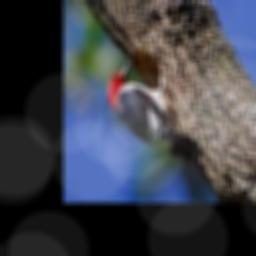Woodpecker: (107, 57, 201, 171)
